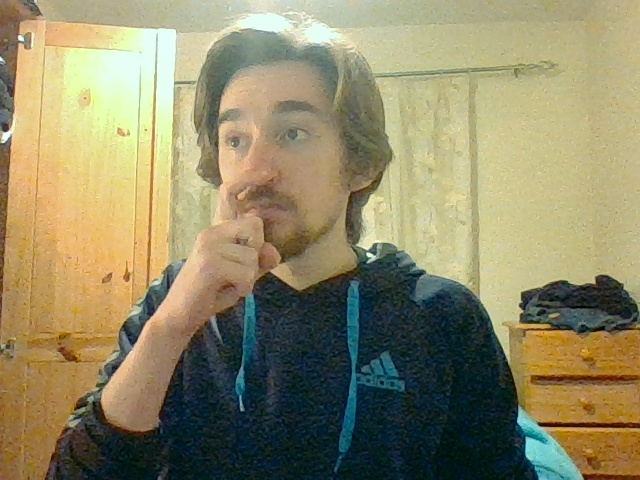sister: (209, 167, 281, 301)
